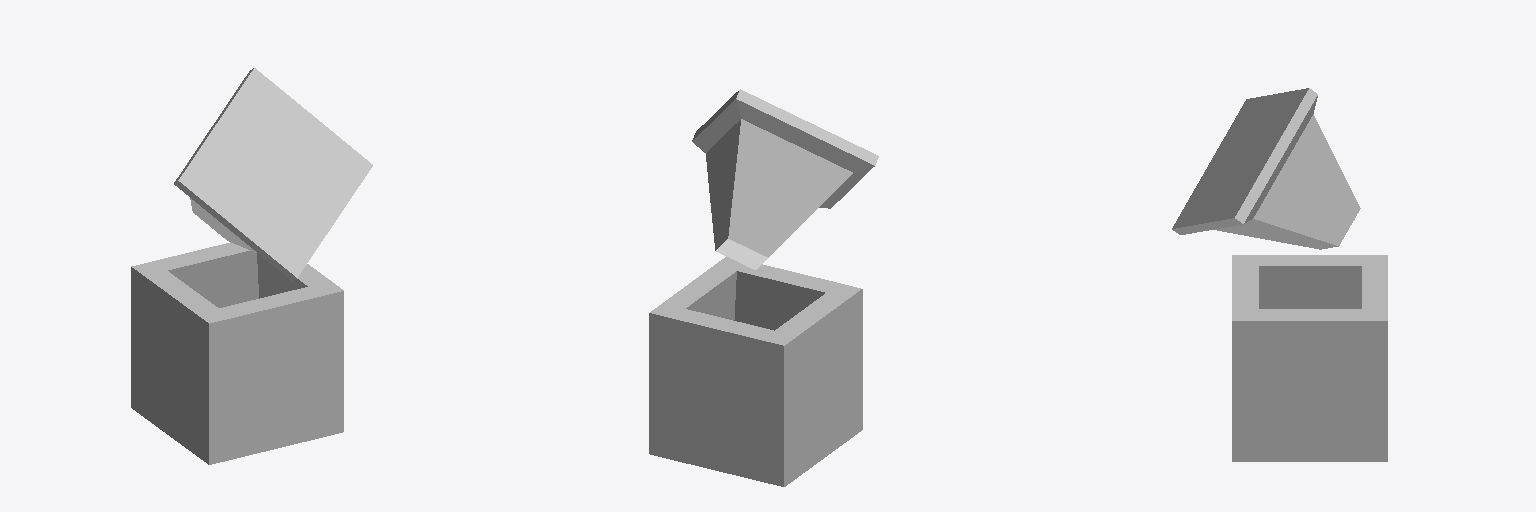
The model's file is AnimatedBox_000019.obj.
The picture shows the model from 3 angles: view 1: azimuth 30°, elevation 25°; view 2: azimuth 150°, elevation 25°; view 3: azimuth 270°, elevation 25°; orthographic projection.
Parts seen in each view (by area): view 1: Cube, Cube.001; view 2: Cube, Cube.001; view 3: Cube, Cube.001.
Boxes of the visible parts, <box> form: Cube: <box>131,242,343,464</box>; Cube.001: <box>174,68,372,281</box>; Cube: <box>649,256,862,486</box>; Cube.001: <box>692,89,878,269</box>; Cube: <box>1232,255,1387,461</box>; Cube.001: <box>1172,88,1360,249</box>.
Bounding box in the file's own units: 2.81 × 4.93 × 2.78.